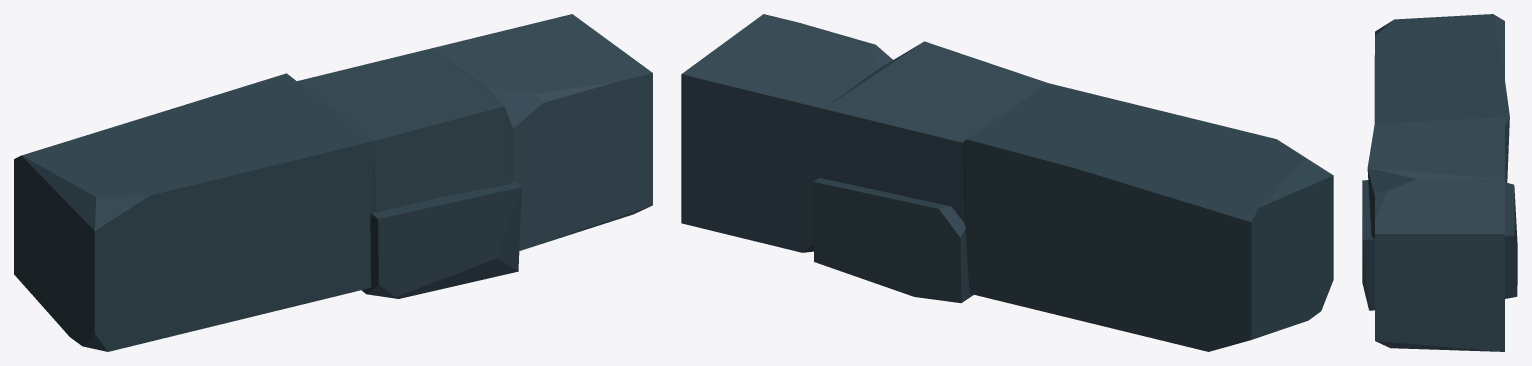
File: level_element_1x4x1.fbx
3 renders of one model, left to right at view 1: azimuth 30°, elevation 25°; view 2: azimuth 150°, elevation 25°; view 3: azimuth 270°, elevation 25°, orthographic. The views are drawn at different scales.
Parts seen in each view (by area): view 1: level_element_1x4x1; view 2: level_element_1x4x1; view 3: level_element_1x4x1.
Boxes of the visible parts, x1,y1,x2,y2 form: level_element_1x4x1: (14, 14, 652, 351); level_element_1x4x1: (681, 14, 1333, 351); level_element_1x4x1: (1362, 14, 1517, 351).
Size of the model in its own units: 400 by 116 by 120.
